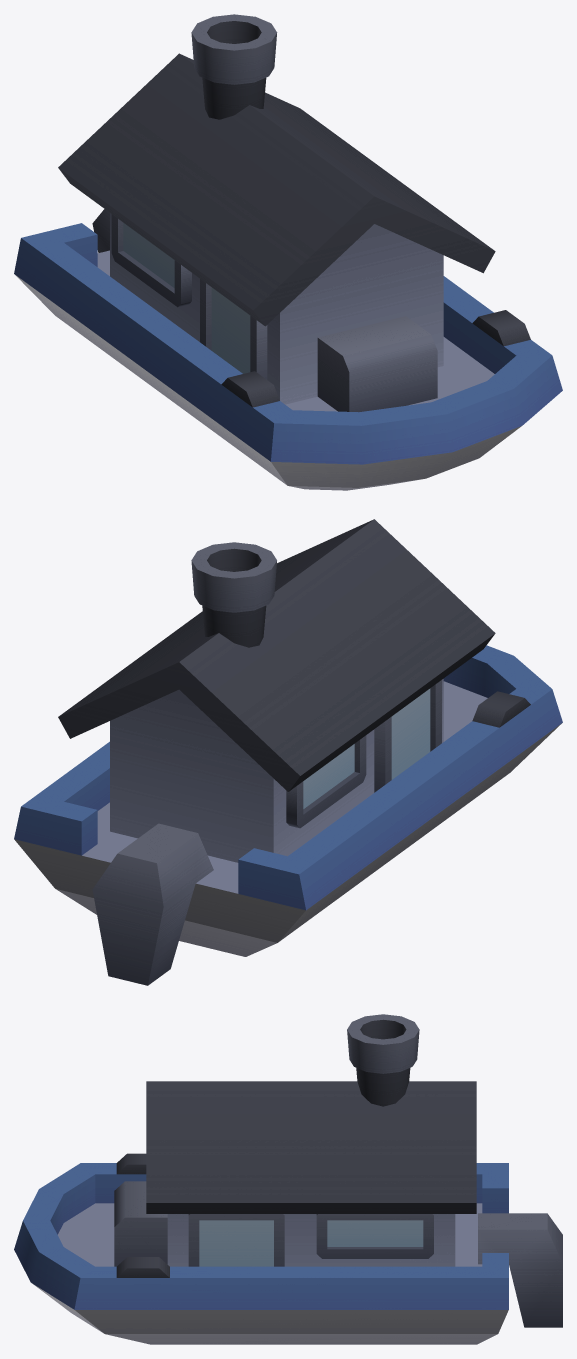
The model's file is boat_house_c.glb.
3 renders of one model, top to bottom at view 1: azimuth 30°, elevation 25°; view 2: azimuth 150°, elevation 25°; view 3: azimuth 270°, elevation 25°, orthographic. The views are drawn at different scales.
Parts seen in each view (by area): view 1: boat-house-c; view 2: boat-house-c; view 3: boat-house-c.
Part boxes in pixels (<box>): boat-house-c: <box>14,14,562,490</box>; boat-house-c: <box>14,519,562,985</box>; boat-house-c: <box>14,1014,562,1344</box>.
Size of the model in its own units: 2.68 by 3 by 5.15.
Materials: 1 (1 with a texture image).
